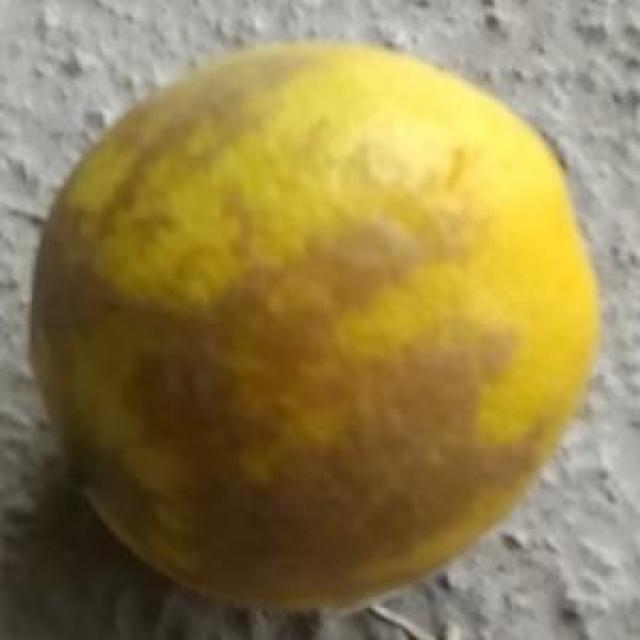lemon: (18, 38, 598, 614)
